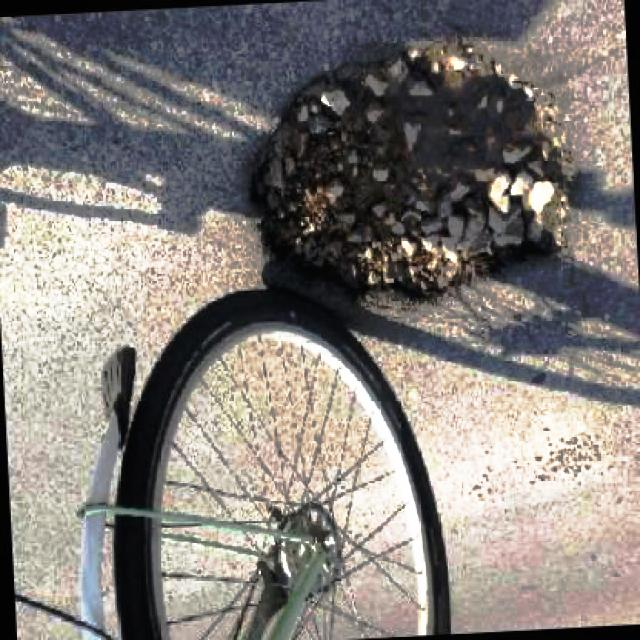pothole: (249, 23, 574, 302)
